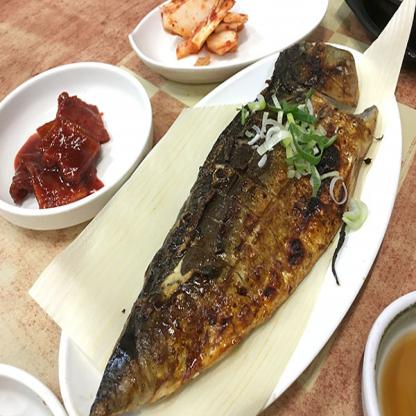Peixe: (84, 31, 372, 416)
